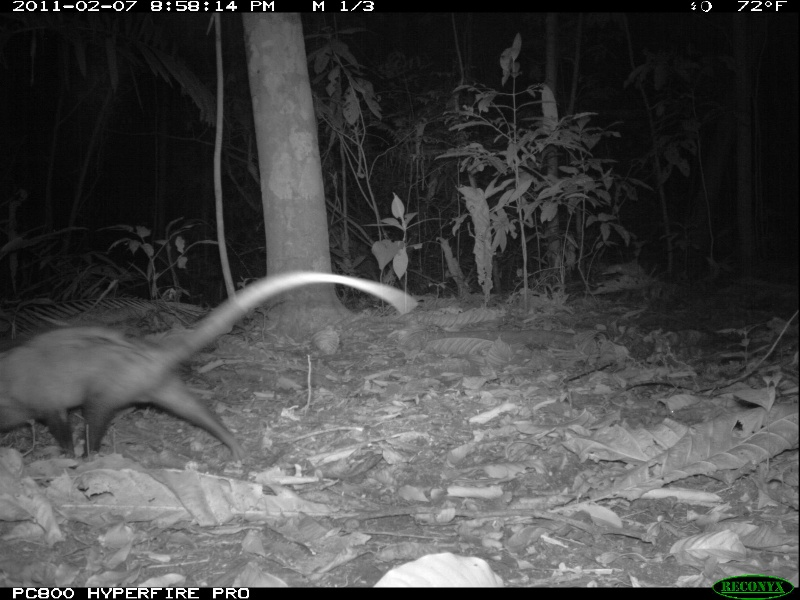opossum: (1, 269, 423, 468)
